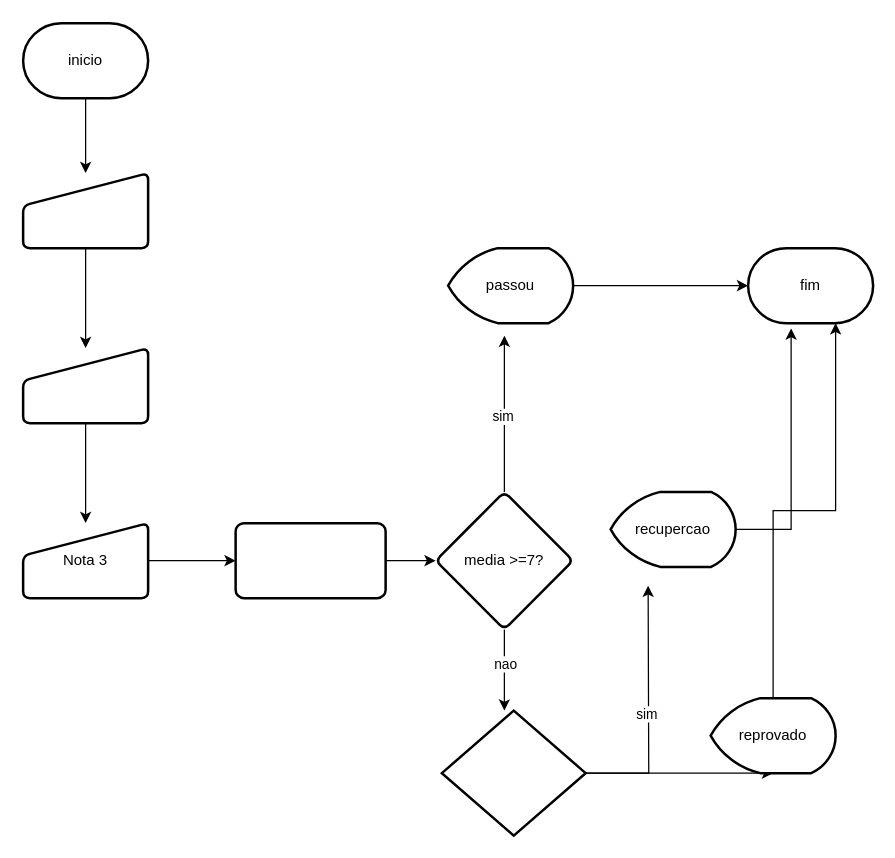
This 895x858 diagram has some shape labels left out. Each missing label, with the box of its shape:
media >5 and media mediax <7?: (440, 709, 586, 836)
Média: (234, 521, 386, 599)
Nota 1: (21, 171, 149, 249)
Nota 2: (21, 346, 149, 424)
